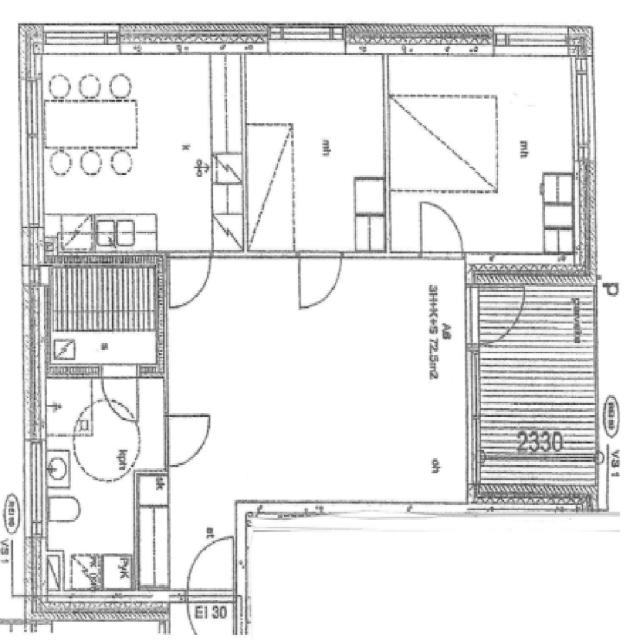door: (293, 249, 345, 315), (183, 533, 236, 597), (414, 196, 466, 261), (164, 252, 212, 312), (163, 413, 212, 470), (479, 290, 524, 347), (98, 371, 142, 428)
window: (265, 21, 346, 57), (568, 59, 597, 159), (492, 24, 570, 61), (461, 284, 482, 351)
zone: (36, 50, 233, 254), (239, 48, 386, 260), (40, 256, 164, 368), (39, 459, 142, 592), (385, 94, 499, 193), (45, 329, 162, 377), (42, 376, 95, 440)
